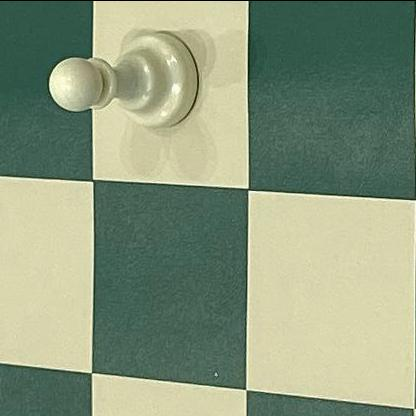white-pawn: (46, 25, 204, 131)
